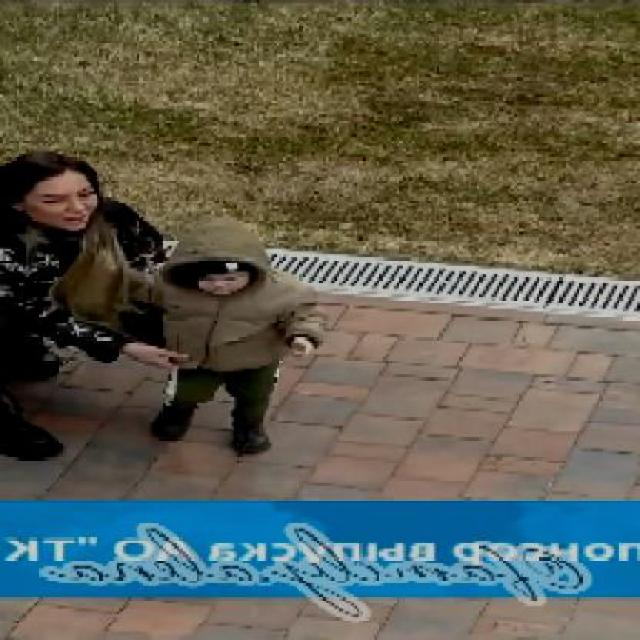child: (124, 217, 330, 457)
